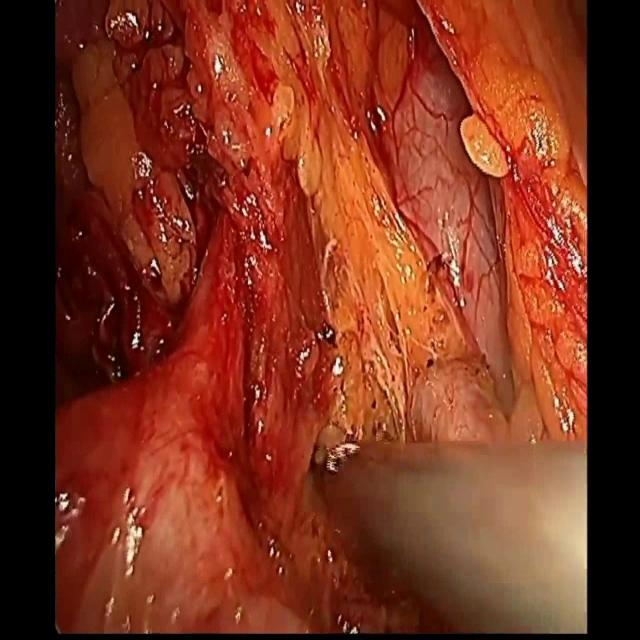surgical-area: (55, 0, 588, 635)
surgical-tool: (322, 438, 588, 633)
